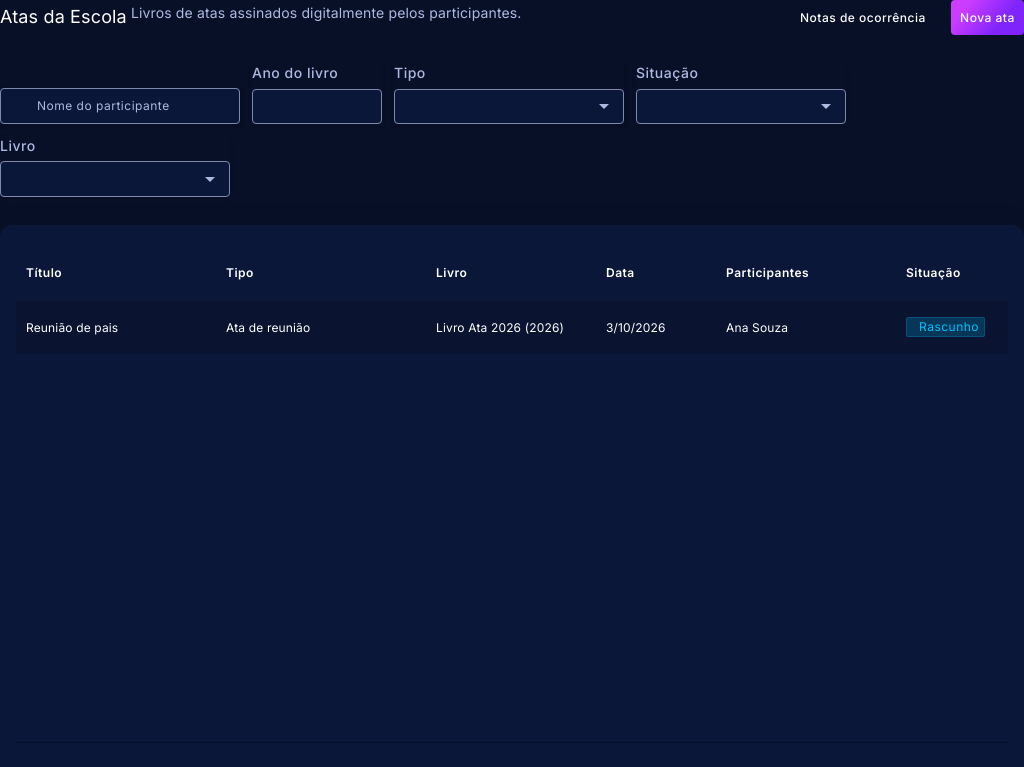
Scenario: SchoolMinutes page — "Nova ata" chooser and form › asks for a class only on the Conselho de Classe form
Check: the text "Reunião de pais" is shown, box [26,320,118,335]
What coordinates should you click on to do the following:
click the button "Nova ata"
I would click on:
 (987, 18)
Its box is [951,0,1023,35].
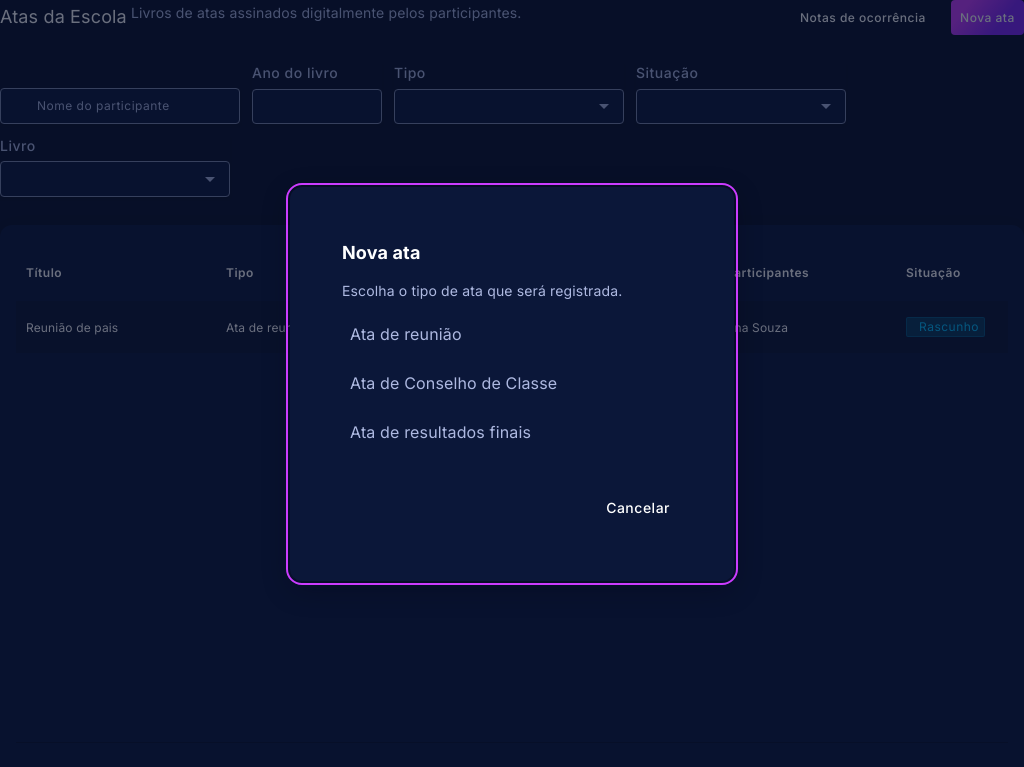
What coordinates should you click on to do the following:
click the button "Ata de reunião"
I would click on:
 (406, 334)
Its box is [350,324,462,344].
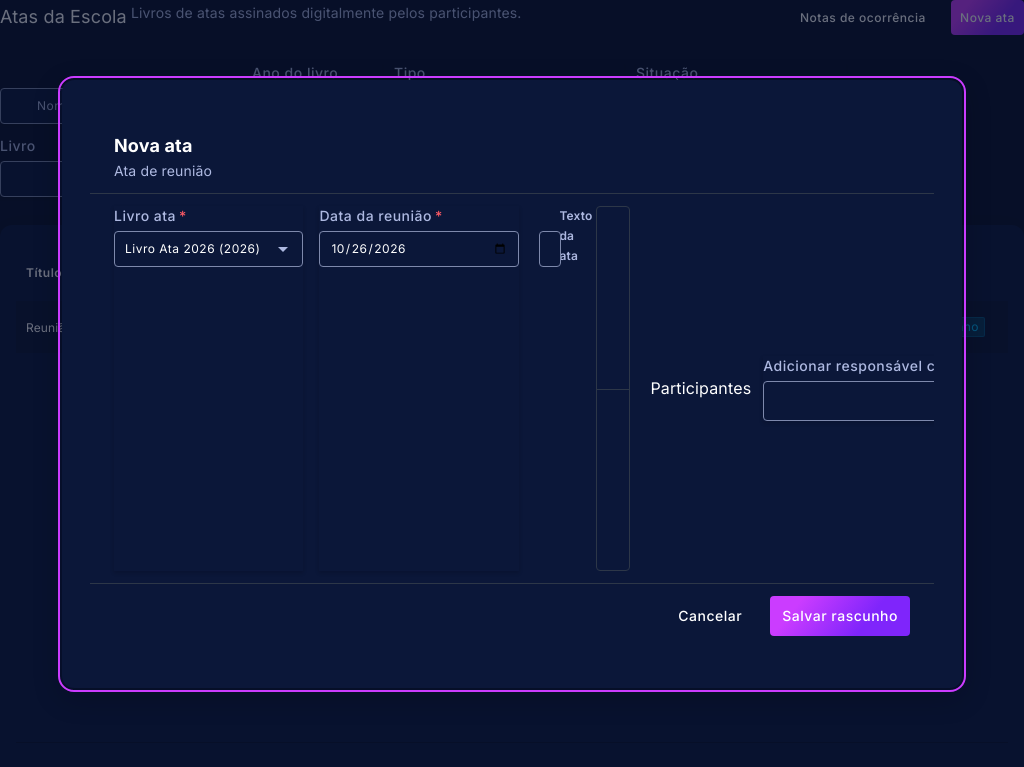
Check: the field labelled "Turma" is not shown
What coordinates should you click on to do the following:
click the button "Cancelar"
I would click on:
 (710, 616)
Its box is [666,596,754,636].
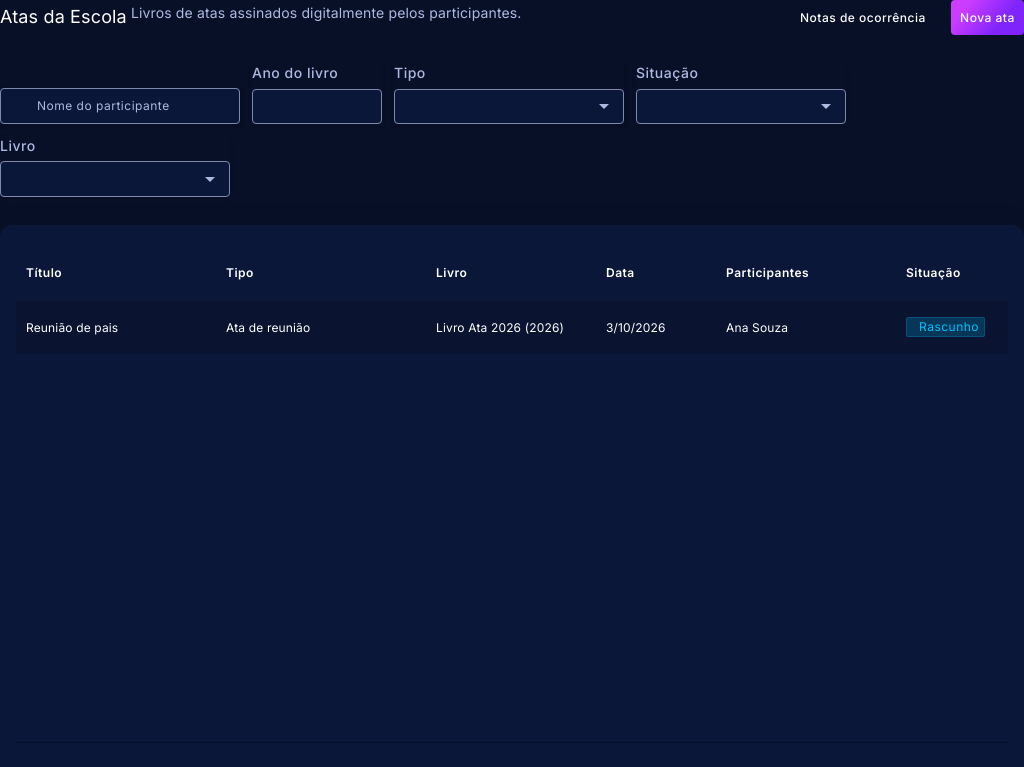
Check: the dialog is gone
What coordinates should you click on to do the following:
click the button "Nova ata"
I would click on:
 (987, 18)
Its box is [951,0,1023,35].
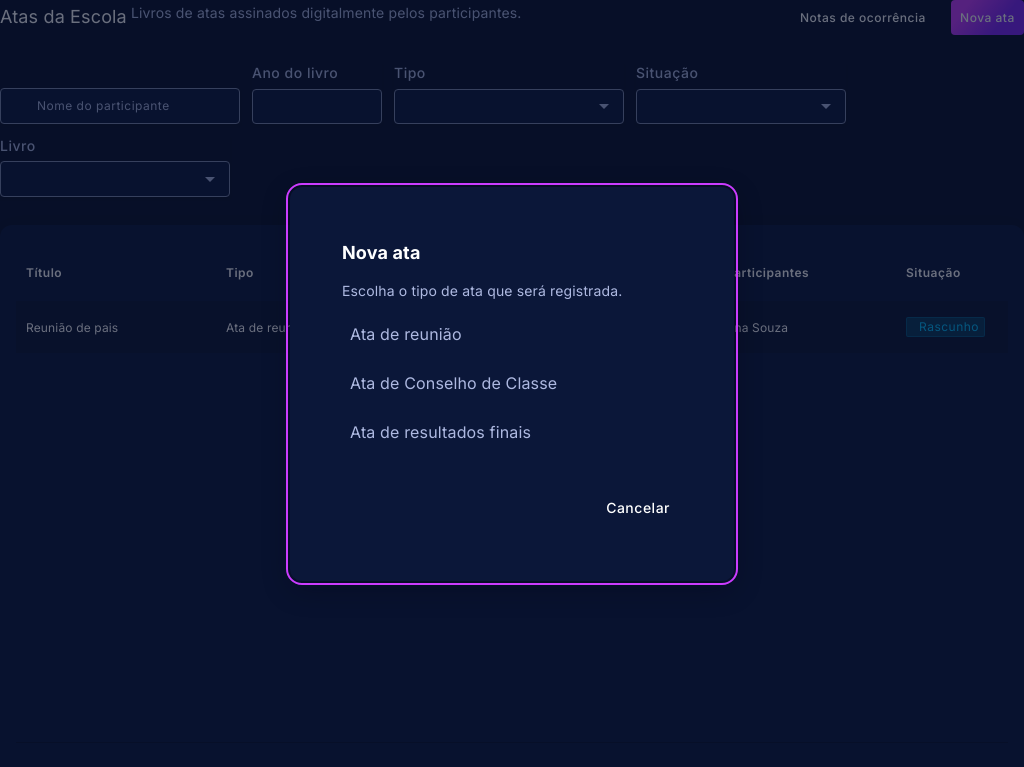
What coordinates should you click on to do the following:
click the button "Ata de Conselho de Classe"
I would click on:
 (454, 383)
Its box is [350,373,557,393].
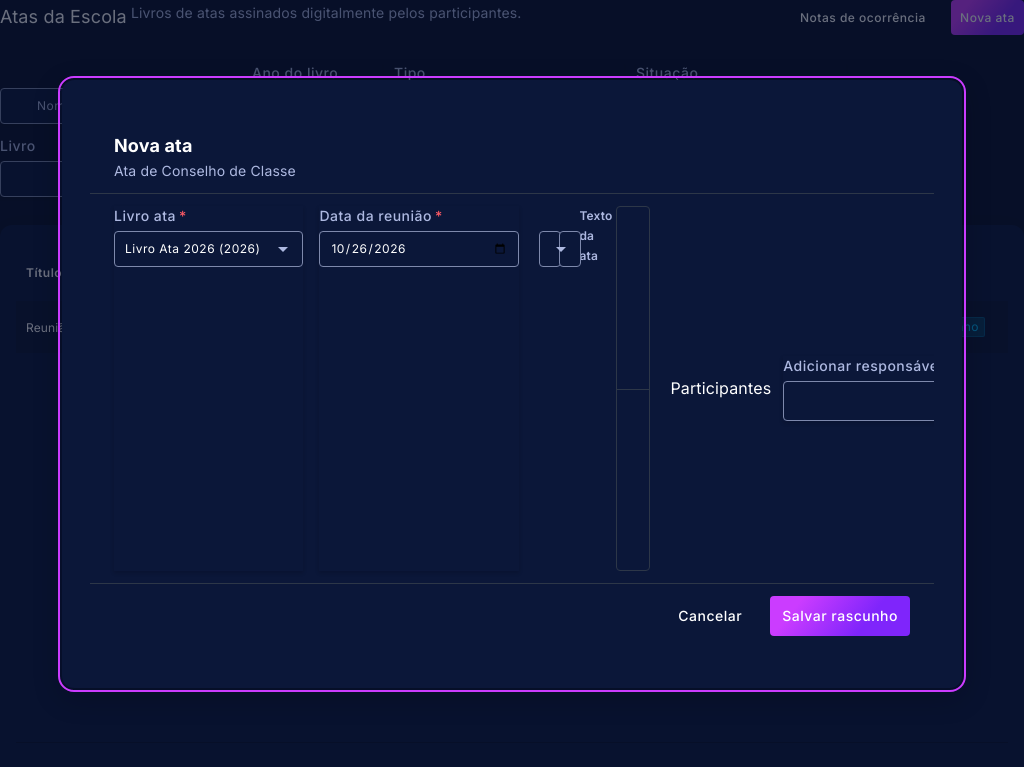
Check: the dropdown named "Turma" is shown, box [570,240,602,258]
